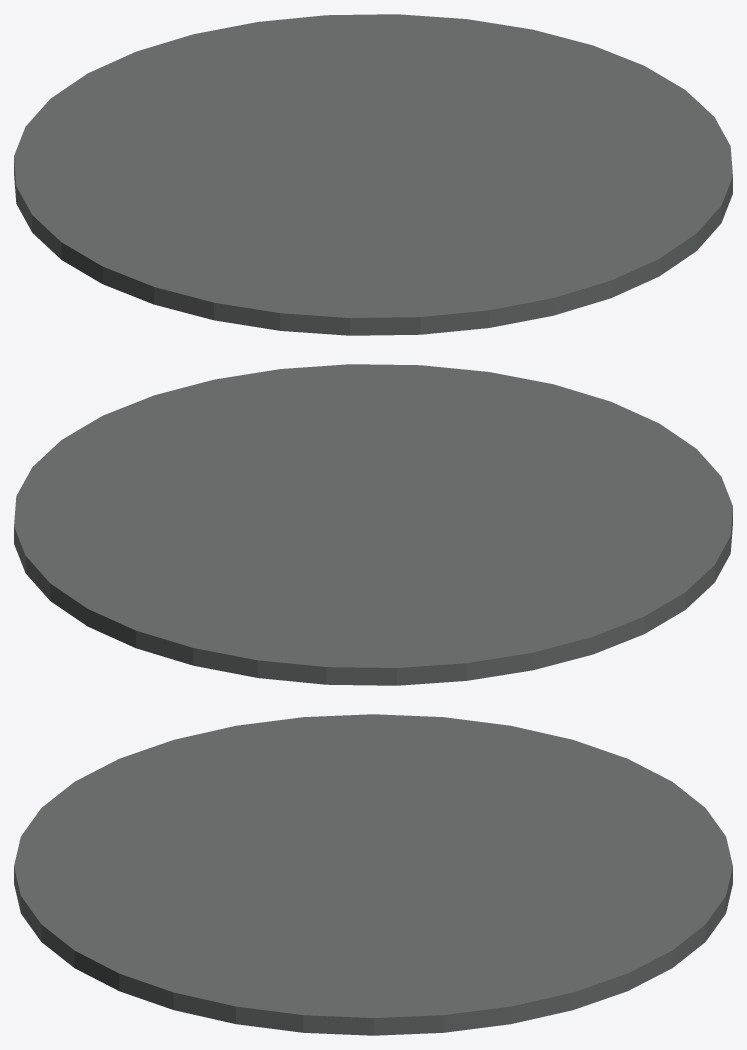
Rendered from shadow.obj.
The picture shows the model from 3 angles, top to bottom: view 1: azimuth 30°, elevation 25°; view 2: azimuth 150°, elevation 25°; view 3: azimuth 270°, elevation 25°; orthographic projection.
Parts seen in each view (by area): view 1: 円柱; view 2: 円柱; view 3: 円柱.
Part boxes in pixels (box(x1,y1,x2,y2)): 円柱: box(14, 14, 732, 335); 円柱: box(14, 364, 732, 685); 円柱: box(14, 714, 732, 1035).
Bounding box in the file's own units: 2 × 0.0542 × 2.
1 material, 1 textured.
